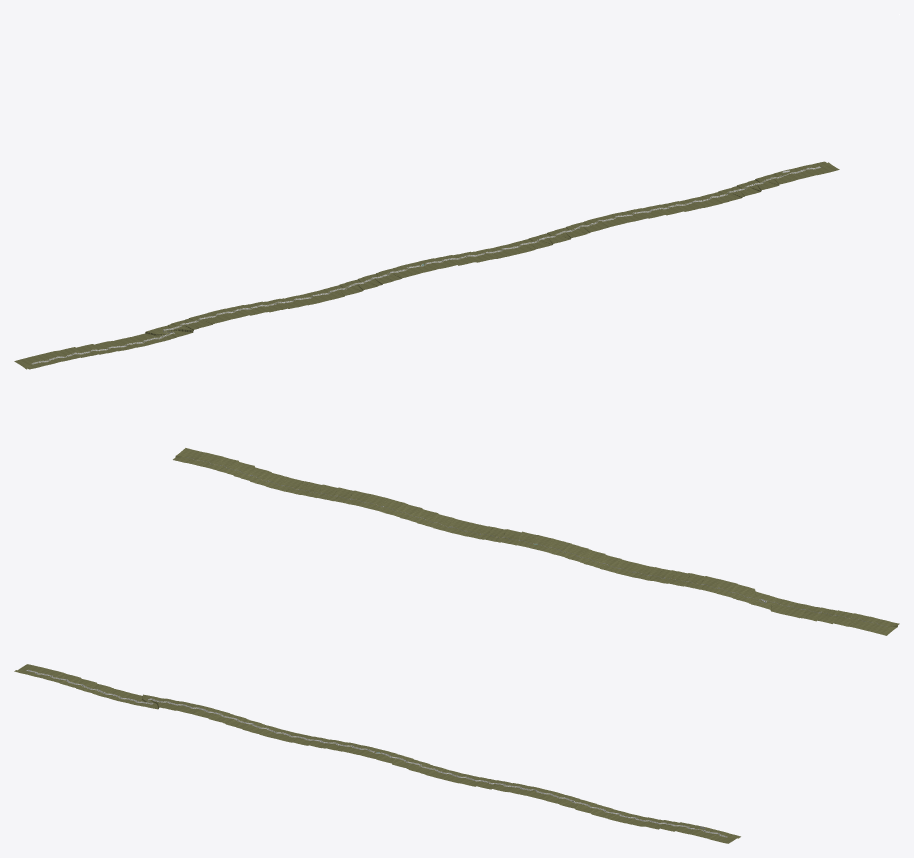
The model's file is montroyal.glb.
3 views of the same model, one above another, from view 1: azimuth 30°, elevation 25°; view 2: azimuth 150°, elevation 25°; view 3: azimuth 330°, elevation 25° (orthographic). The views are drawn at different scales.
Parts seen in each view (by area): view 1: no part large enough to name; view 2: Land_000; view 3: Land_000.
Boxes of the visible parts, box(x1,y1,x2,y2) form: Land_000: box(850, 617, 899, 635); Land_000: box(14, 664, 64, 678).
Size of the model in its own units: 27959 by 2391 by 3502.
